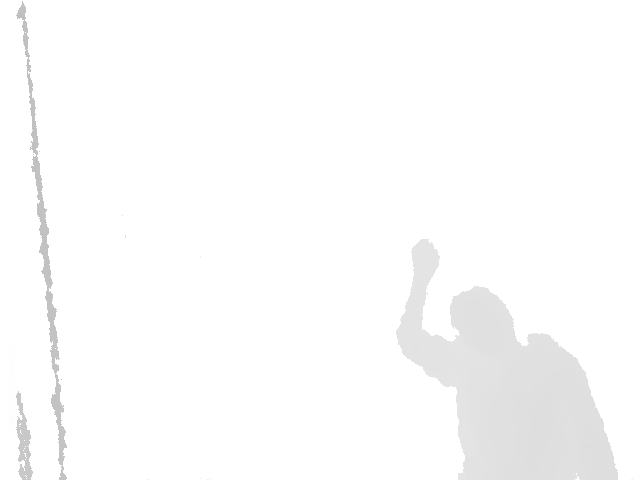hand: (410, 238, 440, 284)
head: (449, 285, 520, 352)
person: (396, 237, 620, 480)
